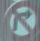Don't turn right: (4, 3, 39, 34)
